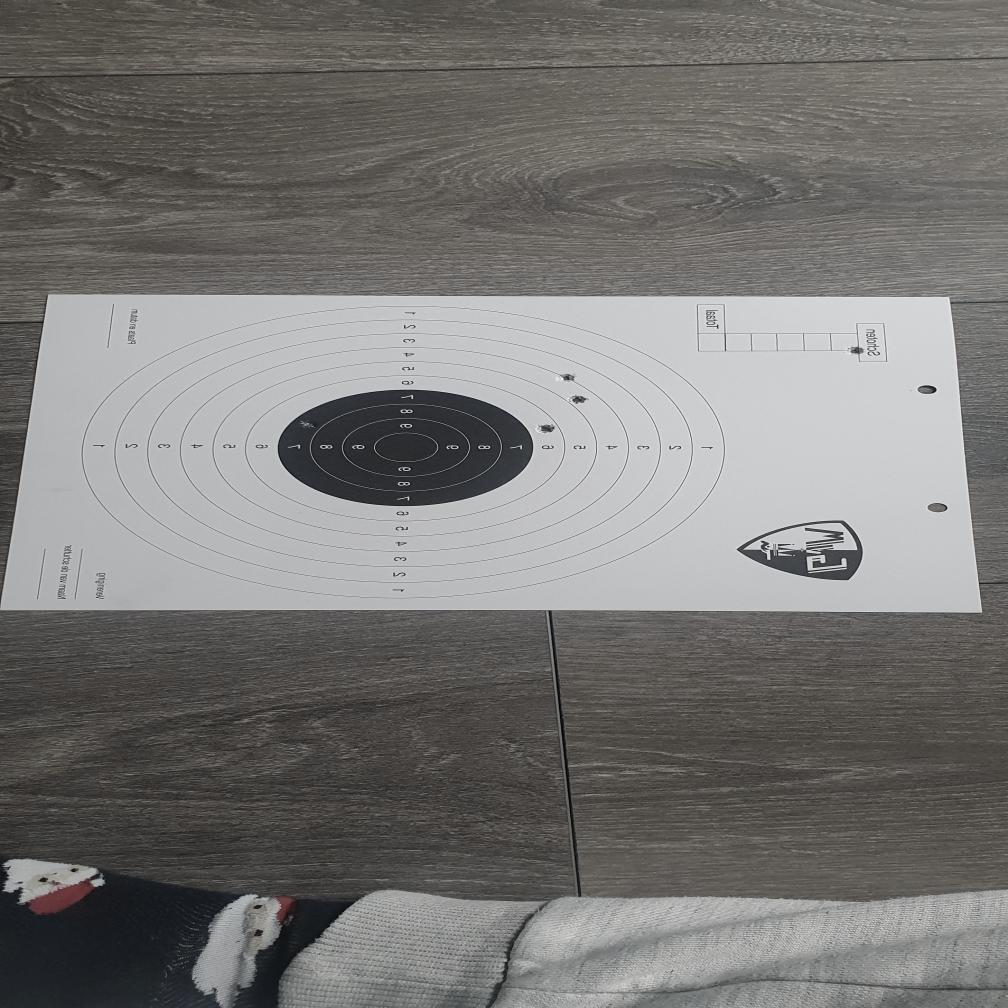0: (844, 346, 865, 356)
4: (552, 373, 578, 382), (567, 395, 590, 405)
6: (533, 423, 558, 434)
7: (298, 420, 318, 428)
Target: (78, 304, 728, 600)
black_contour: (277, 389, 531, 507)
